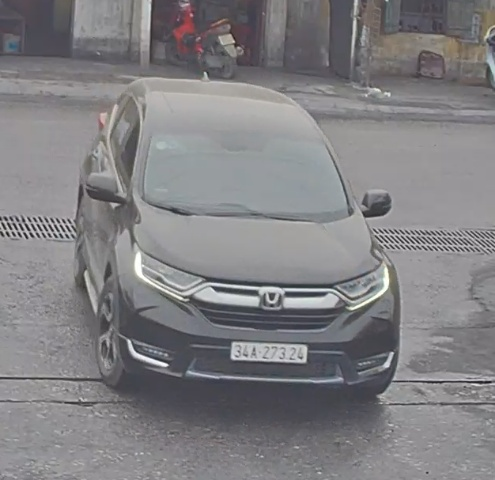vehicle plate: (231, 339, 315, 367)
